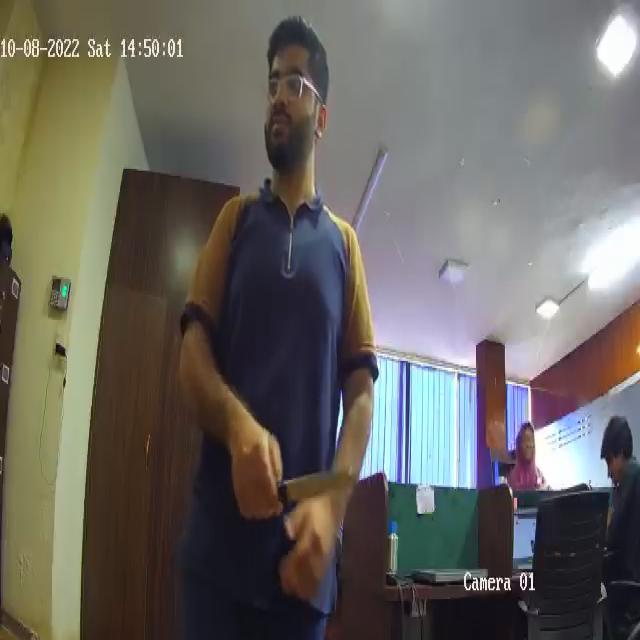Knife: (252, 464, 353, 508)
